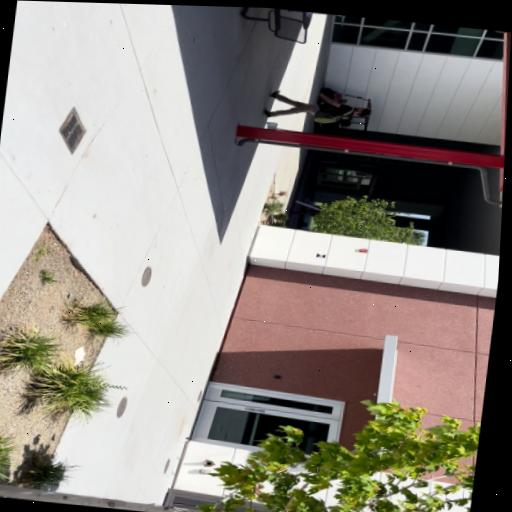target6: (316, 253, 326, 260)
